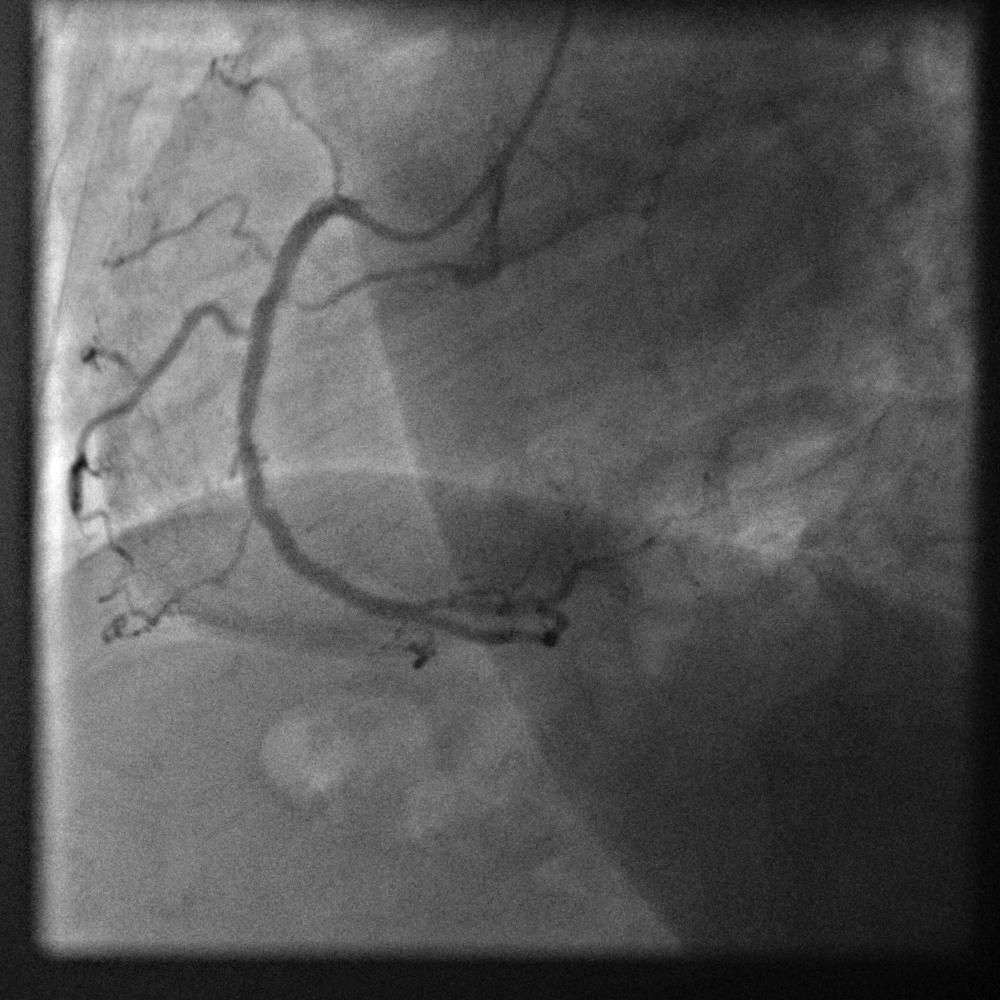Stenosis: (256, 260, 293, 305)
